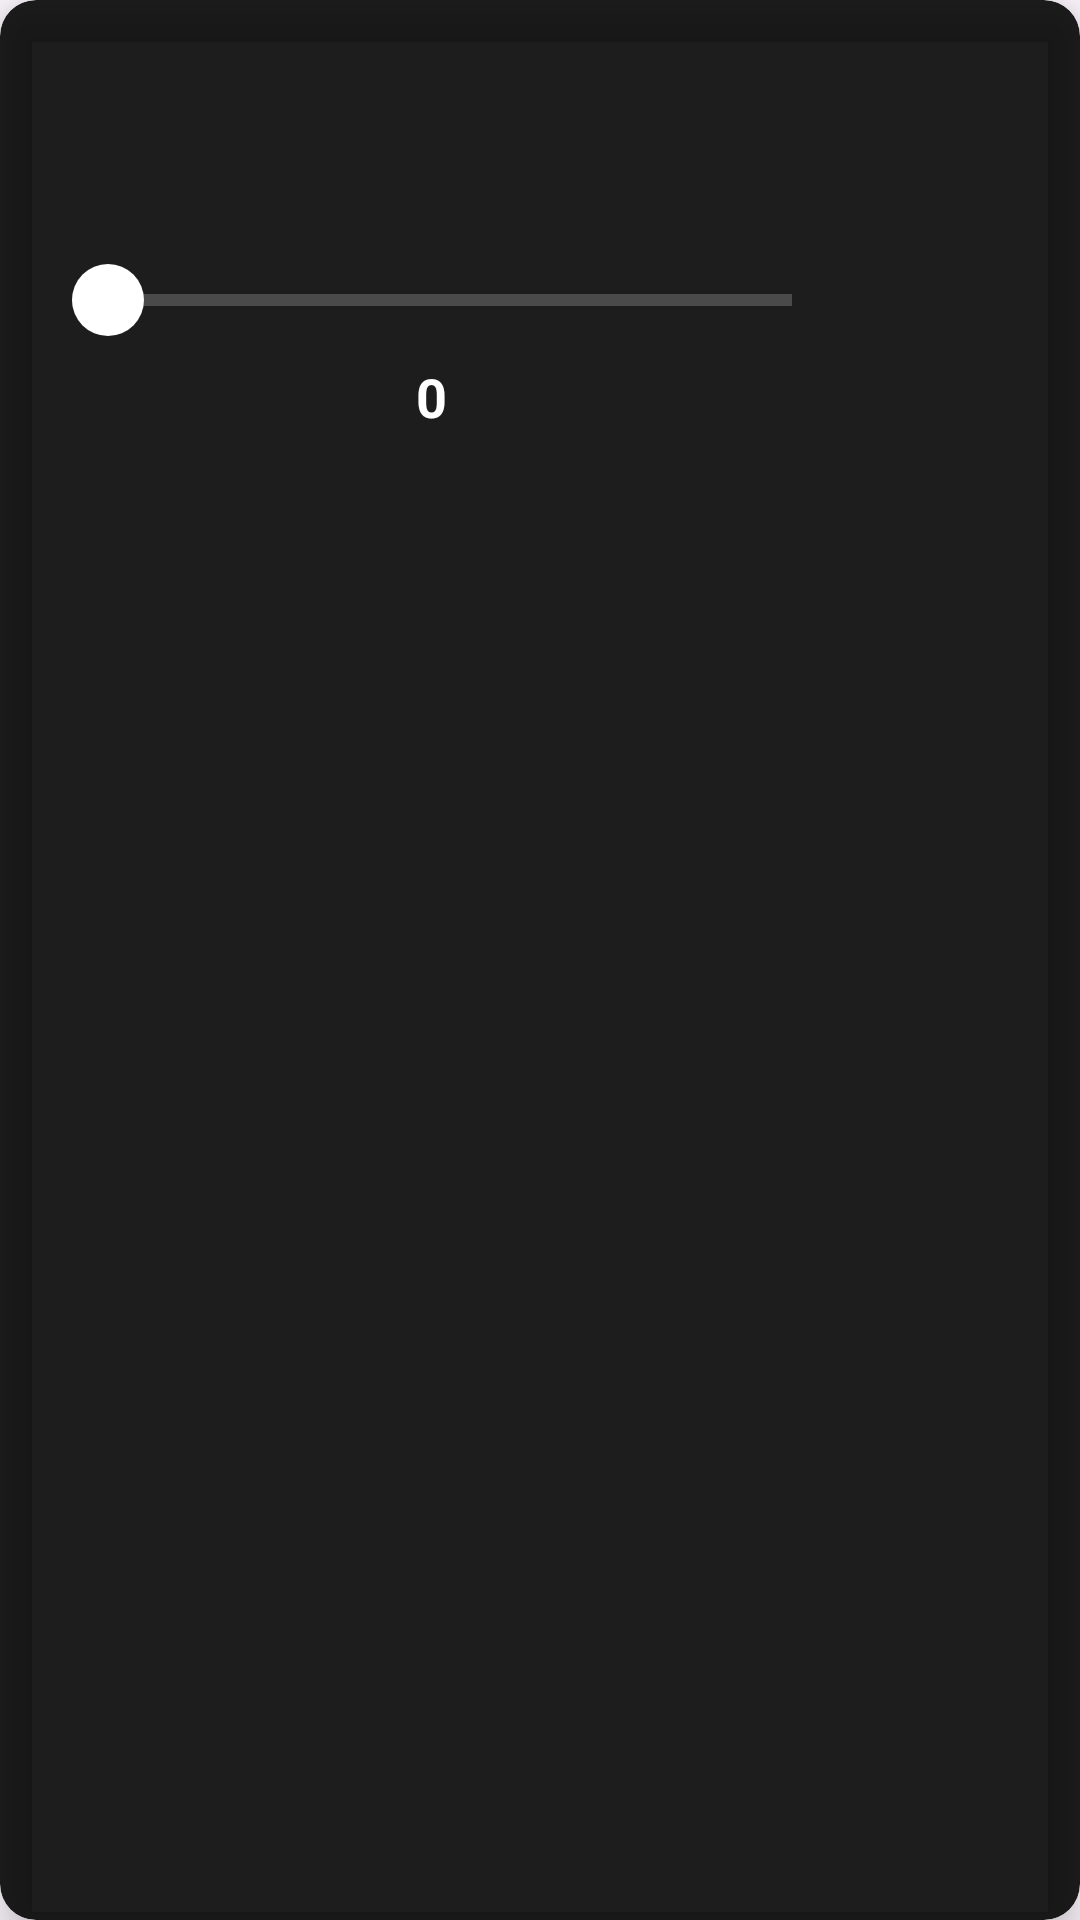

Where to tap for icons on this 1080*1920 app screen, as point (x, y):
slider thumb: point (108, 300)
